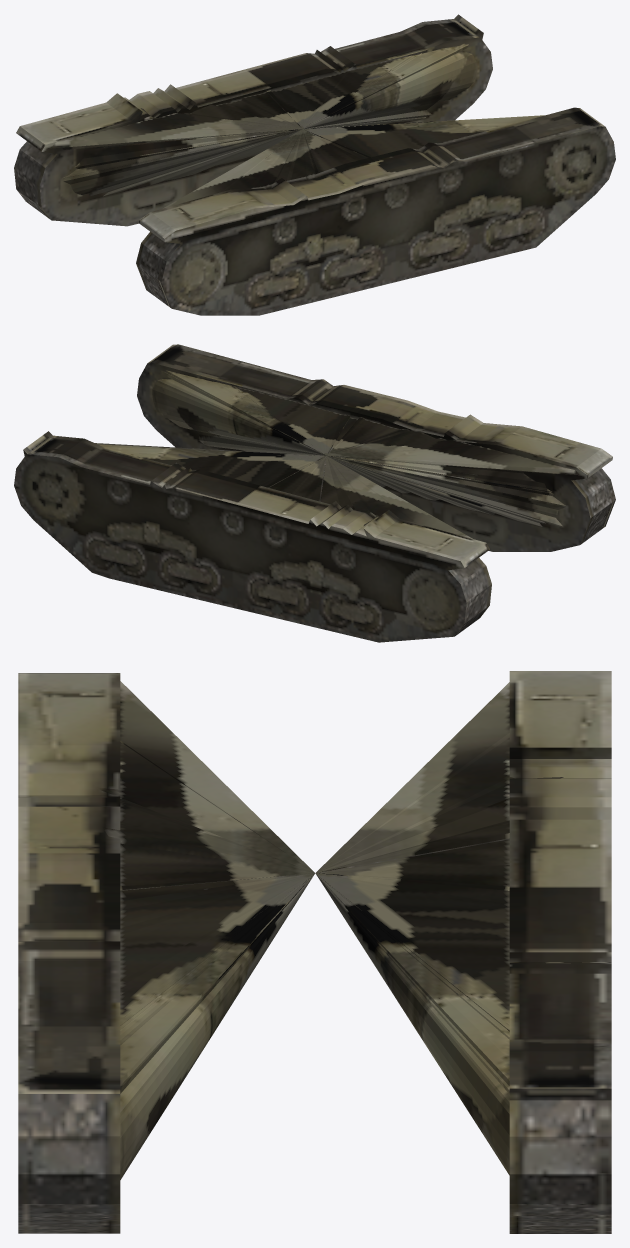
The model's file is hull.obj.
The picture shows the model from 3 angles, top to bottom: view 1: azimuth 30°, elevation 25°; view 2: azimuth 150°, elevation 25°; view 3: azimuth 270°, elevation 25°; orthographic projection. The views are drawn at different scales.
Size of the model in its own units: 1.01 by 0.2379 by 0.57.
1 material, 1 textured.
